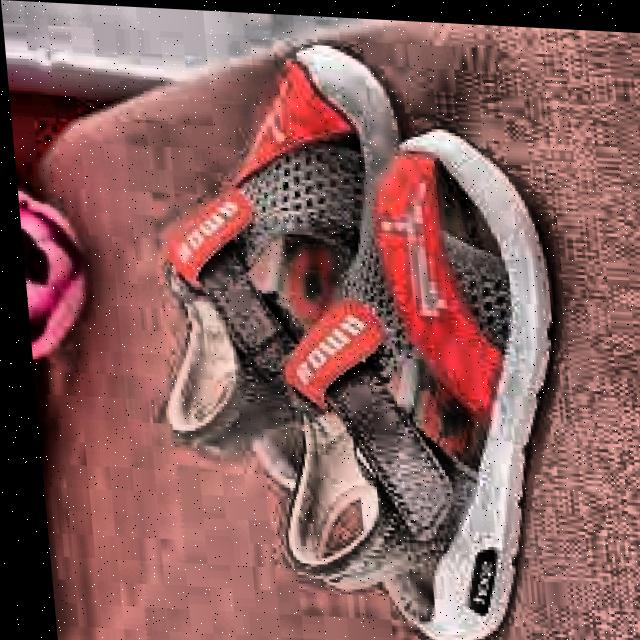shoes: (83, 21, 618, 640)
